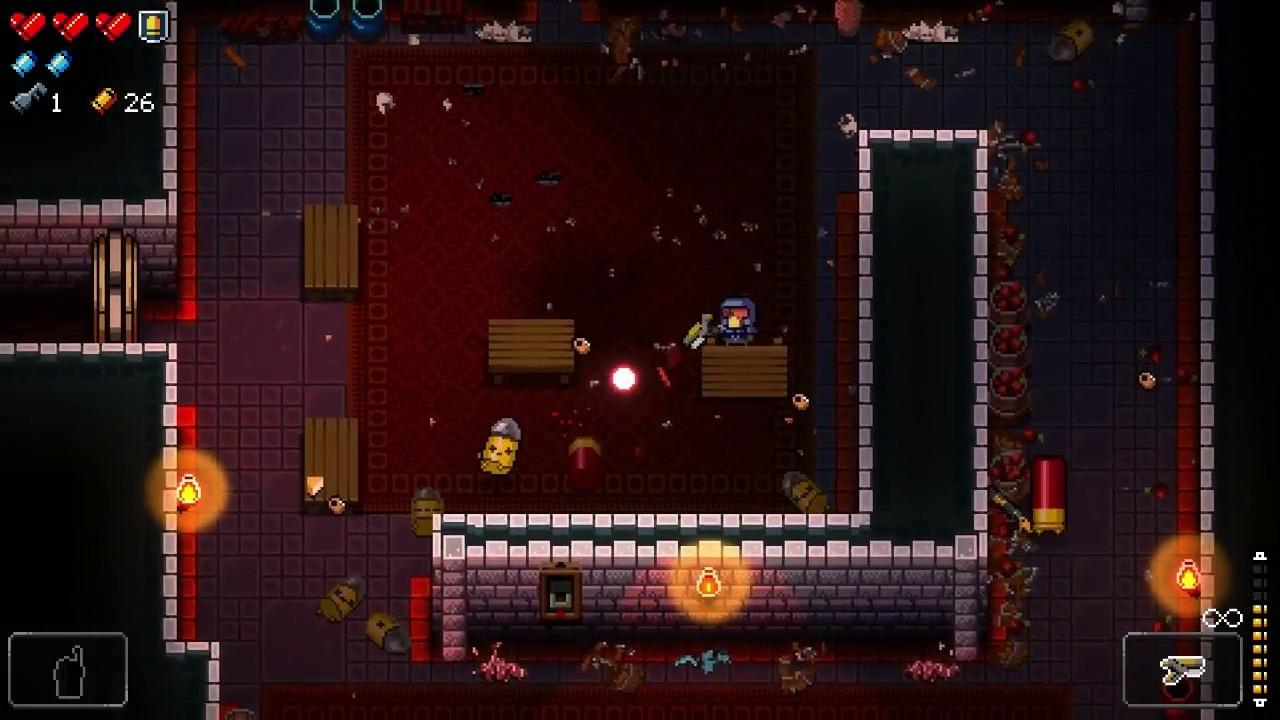bullet: (609, 363, 638, 394)
bullet_kin: (481, 417, 522, 476)
dead_bullet_kin: (316, 572, 368, 625), (780, 470, 831, 513), (365, 611, 412, 655), (1049, 18, 1094, 61), (412, 487, 444, 538)
dead_red_shotgun_kin: (570, 436, 605, 492)
locked_door: (91, 227, 138, 343)
player: (720, 297, 757, 346)
red_shotgun_kin: (1029, 456, 1068, 537)
table: (489, 319, 575, 385), (303, 204, 358, 301), (701, 337, 788, 398), (305, 417, 359, 515)
